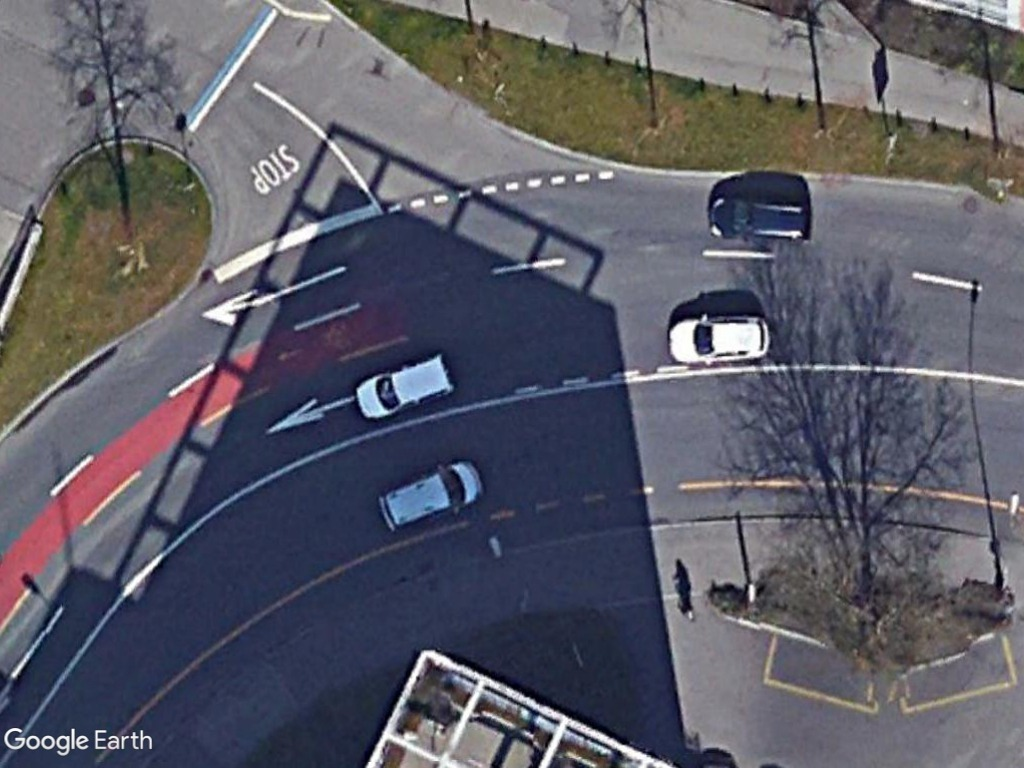car: (352, 347, 458, 427), (374, 458, 485, 533), (703, 191, 814, 248), (666, 312, 775, 367)
